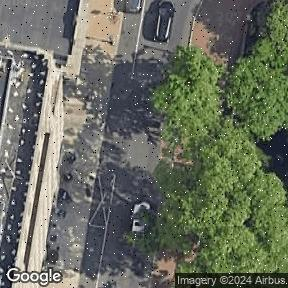vegetation: (126, 1, 288, 273)
